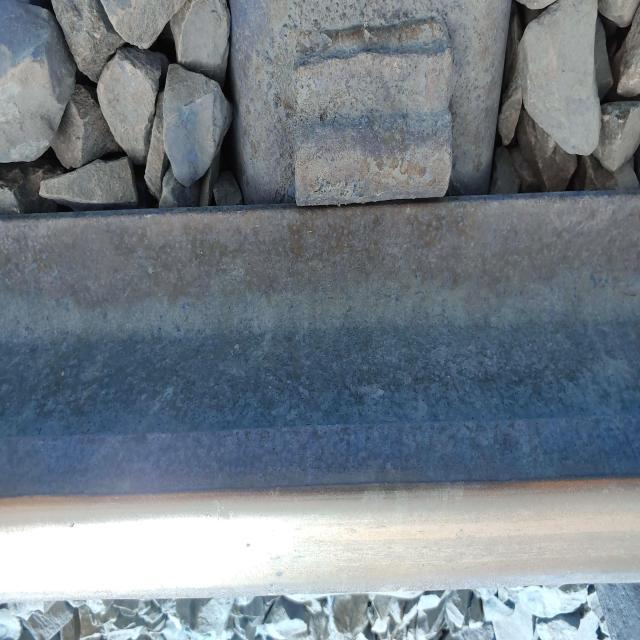Missing Fastener: (202, 1, 486, 294)
